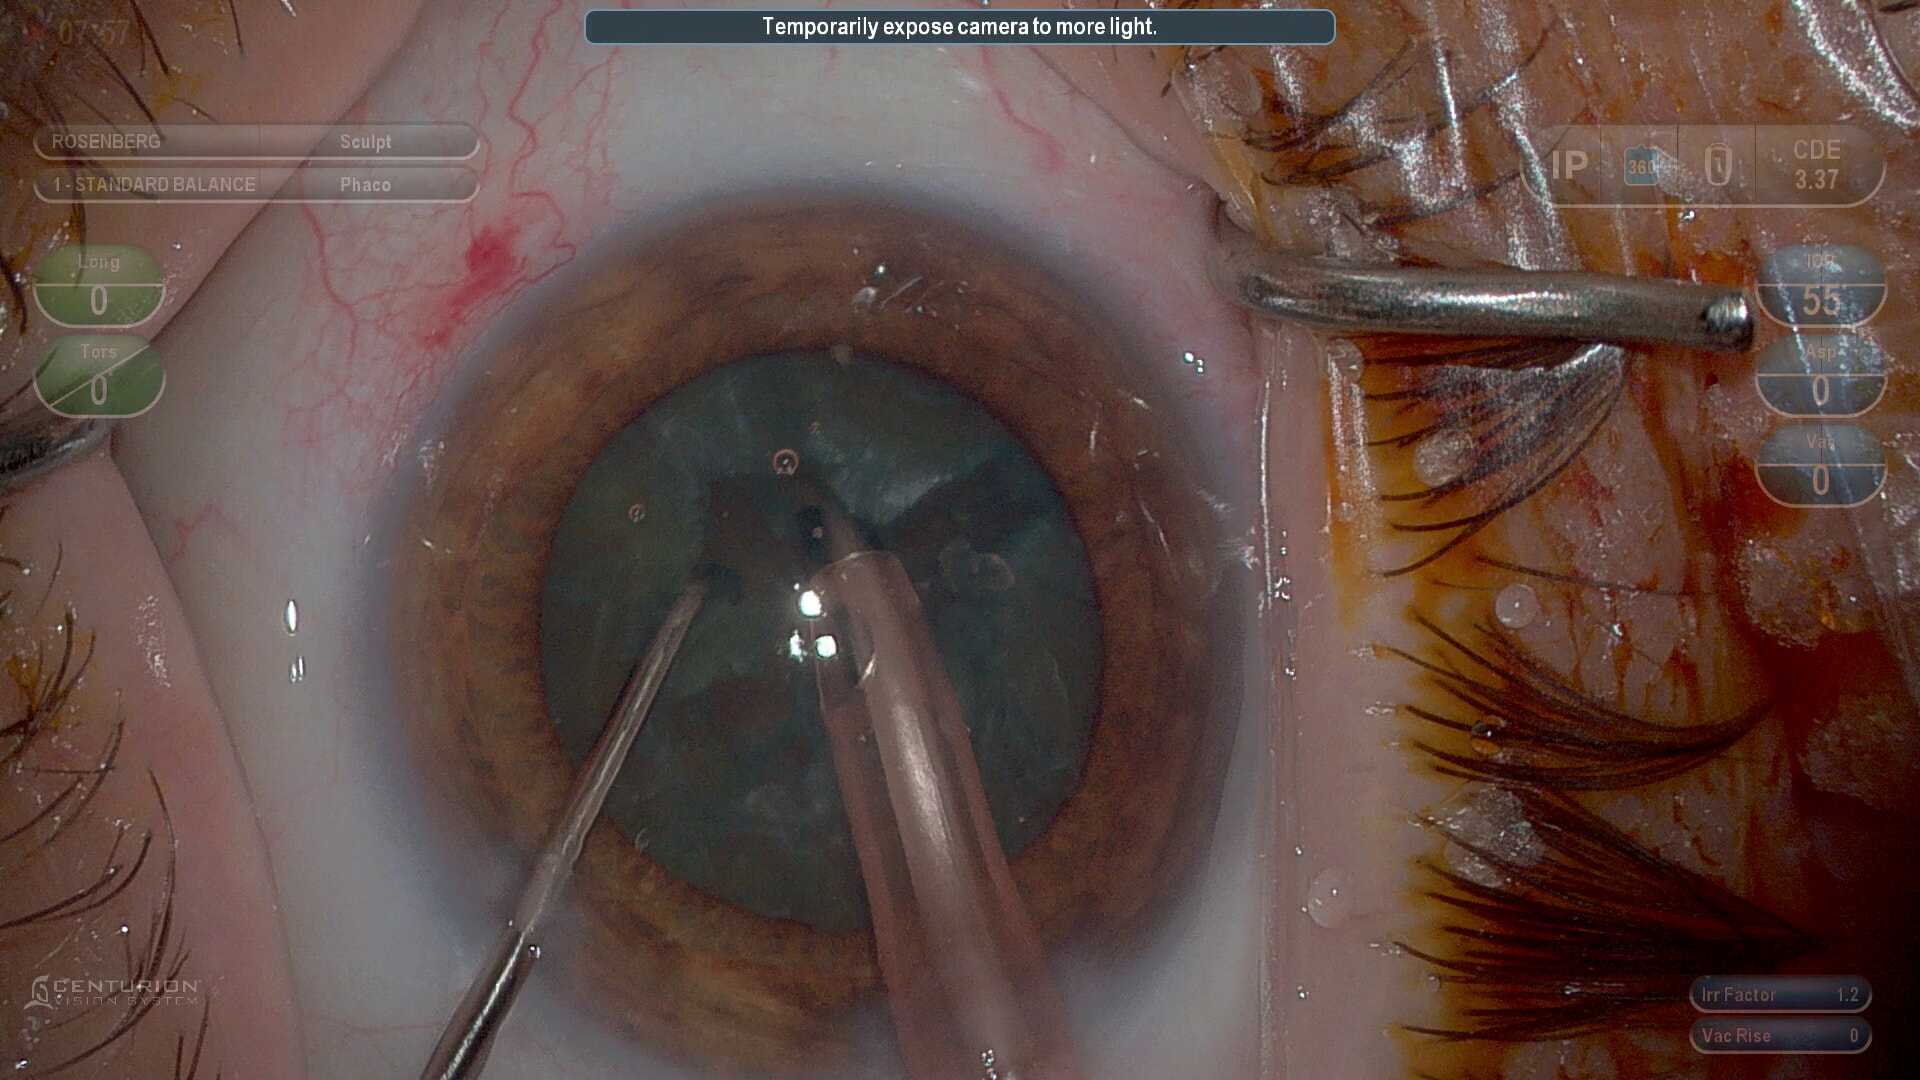iris: (410, 204, 1253, 1080)
pupil: (538, 344, 1120, 938)
